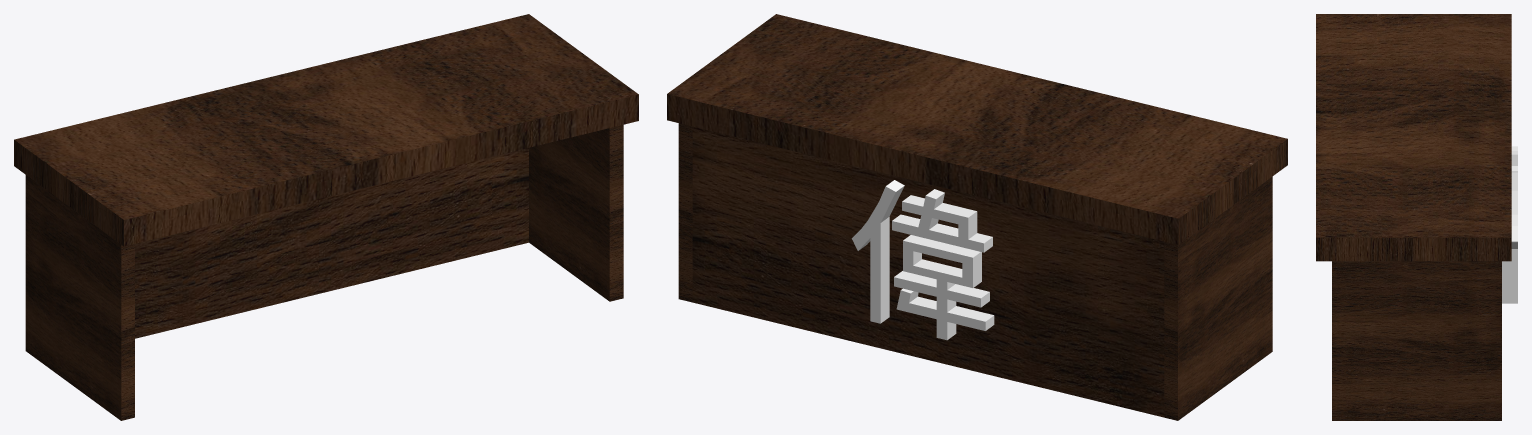
The model's file is eraitukue.fbx.
3 renders of one model, left to right at view 1: azimuth 30°, elevation 25°; view 2: azimuth 150°, elevation 25°; view 3: azimuth 270°, elevation 25°, orthographic. The views are drawn at different scales.
Parts seen in each view (by area): view 1: Plane.013; view 2: Plane.013; view 3: Plane.013.
Part boxes in pixels (bbox=[...]): Plane.013: bbox=[14, 14, 638, 420]; Plane.013: bbox=[667, 14, 1287, 420]; Plane.013: bbox=[1316, 14, 1517, 420].
Bounding box in the file's own units: 8.82 × 3.42 × 3.36.
2 materials, 1 textured.
